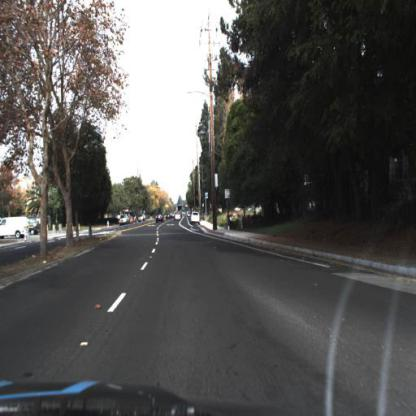car: (29, 216, 42, 239)
